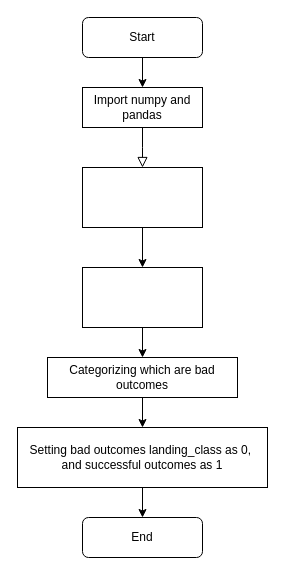
Some shapes in this 285 by 575 pixel diagram are drawn without their labels. The centre of each missing label's shape, as x and y in pixels:
"calculate the percentage of the missing values" goes at point (142, 197).
"Identify which columns are numerical and categorical" goes at point (142, 297).
